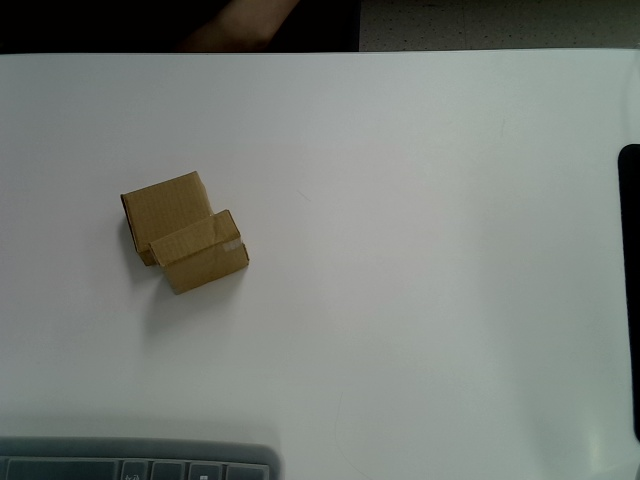normal: (120, 170, 215, 267), (150, 209, 250, 295)
